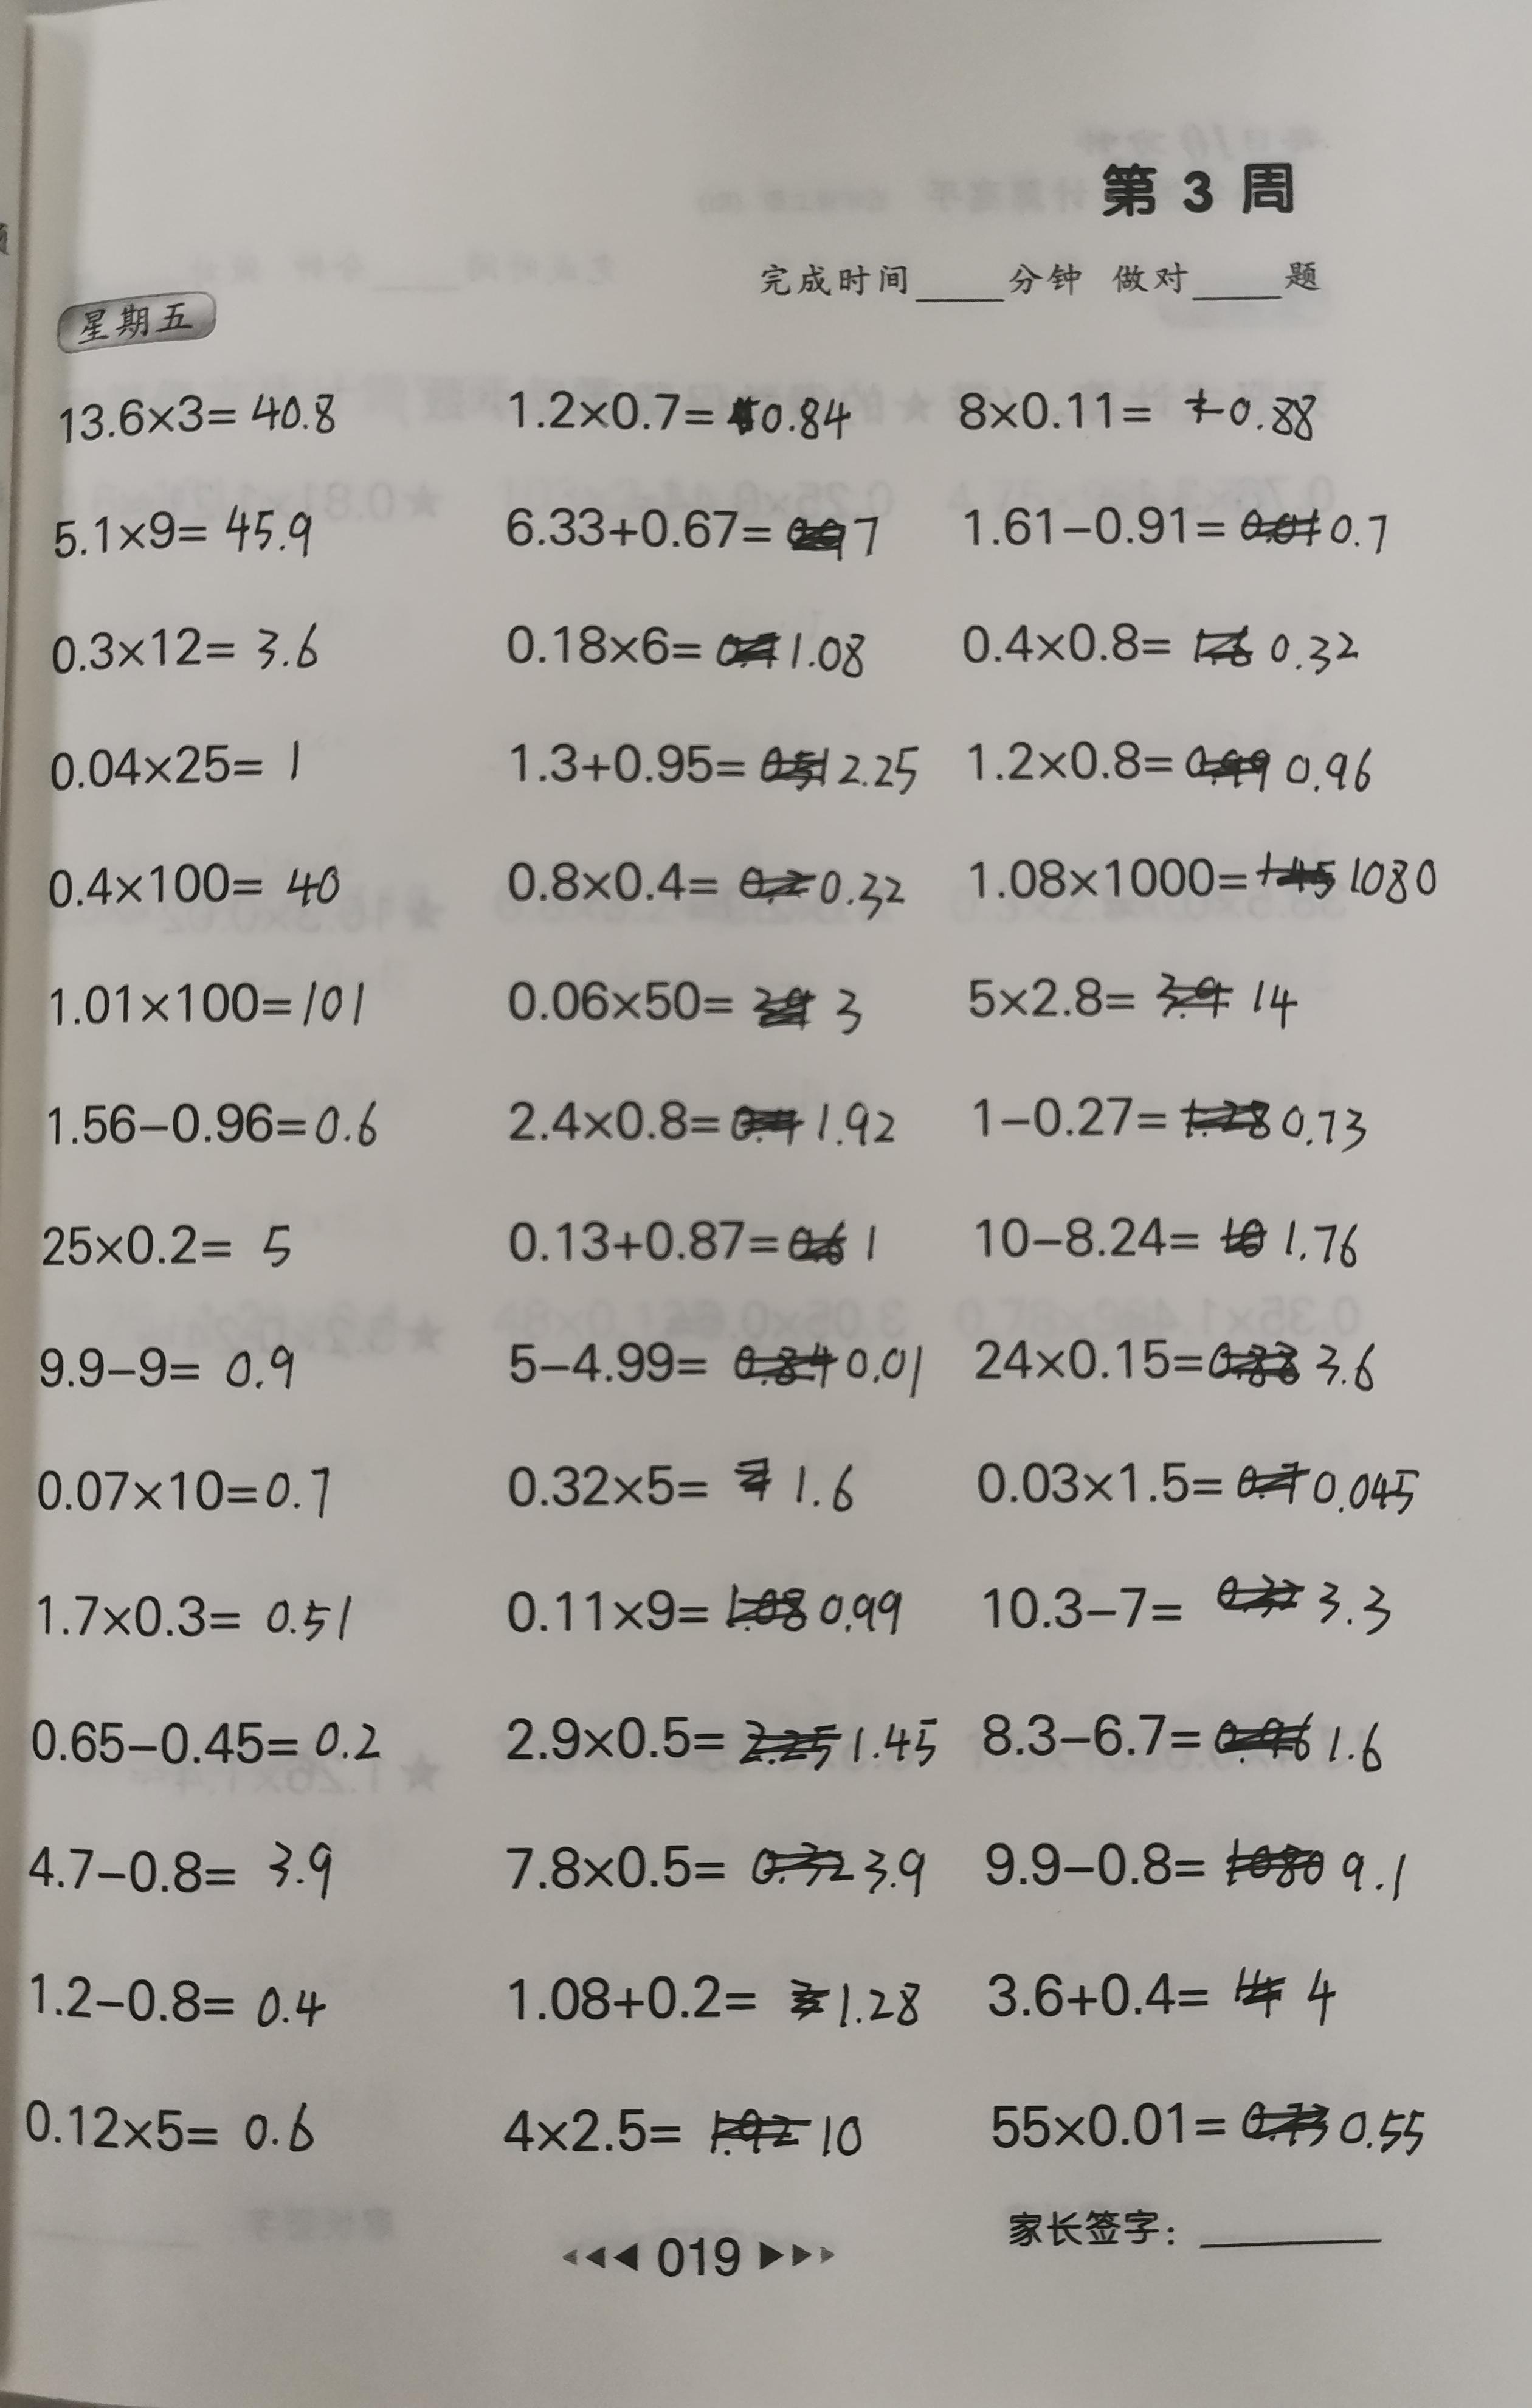equation: (965, 1818, 1423, 1922), (954, 1433, 1439, 1528), (962, 1557, 1418, 1656), (971, 1686, 1403, 1790), (478, 1318, 934, 1415), (485, 1695, 948, 1790), (486, 1954, 936, 2049), (944, 480, 1406, 572), (491, 835, 920, 932), (950, 839, 1455, 920), (947, 722, 1390, 811), (965, 1076, 1386, 1169), (971, 2090, 1451, 2171), (482, 1824, 936, 1909), (488, 718, 928, 804), (482, 482, 898, 573), (494, 963, 889, 1056), (478, 2084, 883, 2175), (954, 1196, 1384, 1281), (940, 604, 1378, 687), (965, 1942, 1354, 2035), (942, 371, 1350, 460), (492, 1082, 916, 1166), (491, 1198, 910, 1281), (961, 1324, 1390, 1405), (18, 1692, 403, 1782), (486, 602, 880, 689), (488, 1575, 912, 1650), (492, 375, 869, 458), (18, 1948, 340, 2043), (30, 961, 389, 1046), (14, 1569, 371, 1654), (494, 1441, 882, 1518), (18, 1818, 353, 1908), (35, 1078, 399, 1160), (30, 837, 363, 926), (944, 957, 1311, 1036), (20, 1453, 354, 1534), (16, 2081, 342, 2163), (32, 1318, 314, 1411), (32, 722, 328, 804), (32, 608, 336, 685), (38, 494, 334, 570), (35, 1204, 316, 1281), (41, 383, 354, 450)
